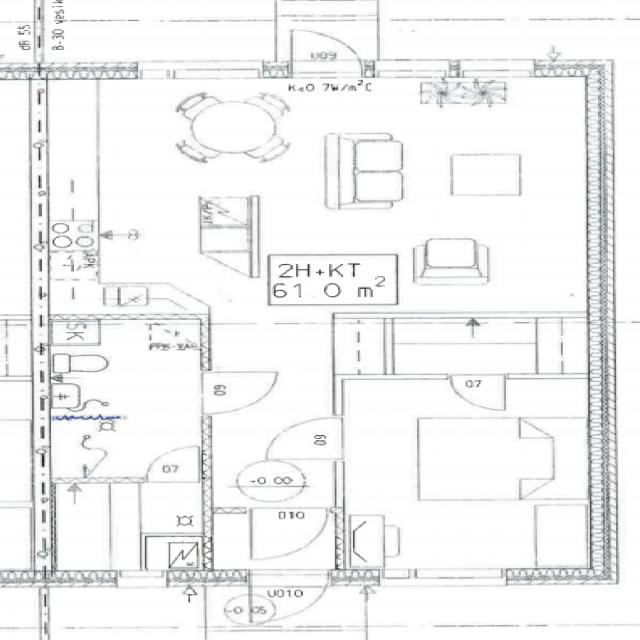door: (250, 570, 328, 635), (291, 17, 362, 79), (252, 508, 326, 560), (265, 417, 342, 459), (201, 371, 278, 412), (452, 374, 505, 412), (147, 446, 199, 483)
